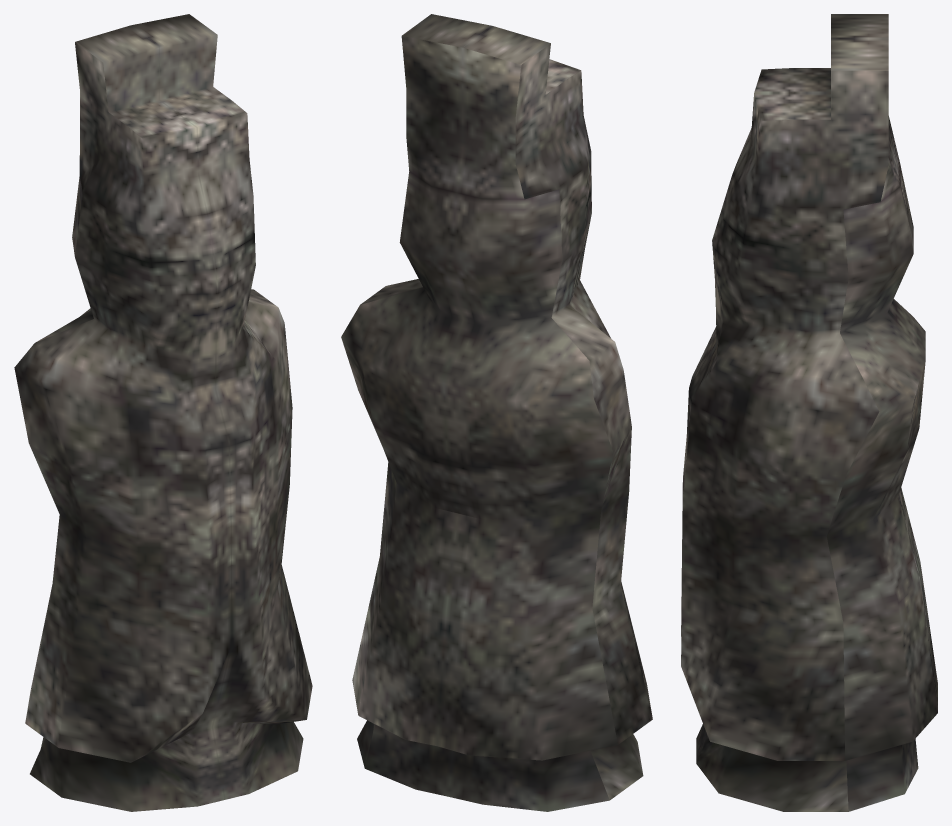
3 renders of one model, left to right at view 1: azimuth 30°, elevation 25°; view 2: azimuth 150°, elevation 25°; view 3: azimuth 270°, elevation 25°, orthographic. The views are drawn at different scales.
Visible parts, largest first — view 1: ob-12-06; view 2: ob-12-06; view 3: ob-12-06.
Part boxes in pixels (x1=…): ob-12-06: x1=14, y1=14, x2=312, y2=811; ob-12-06: x1=341, y1=14, x2=652, y2=811; ob-12-06: x1=681, y1=14, x2=937, y2=811.
Size of the model in its own units: 2.13 by 5.67 by 1.84.
1 material, 1 textured.
